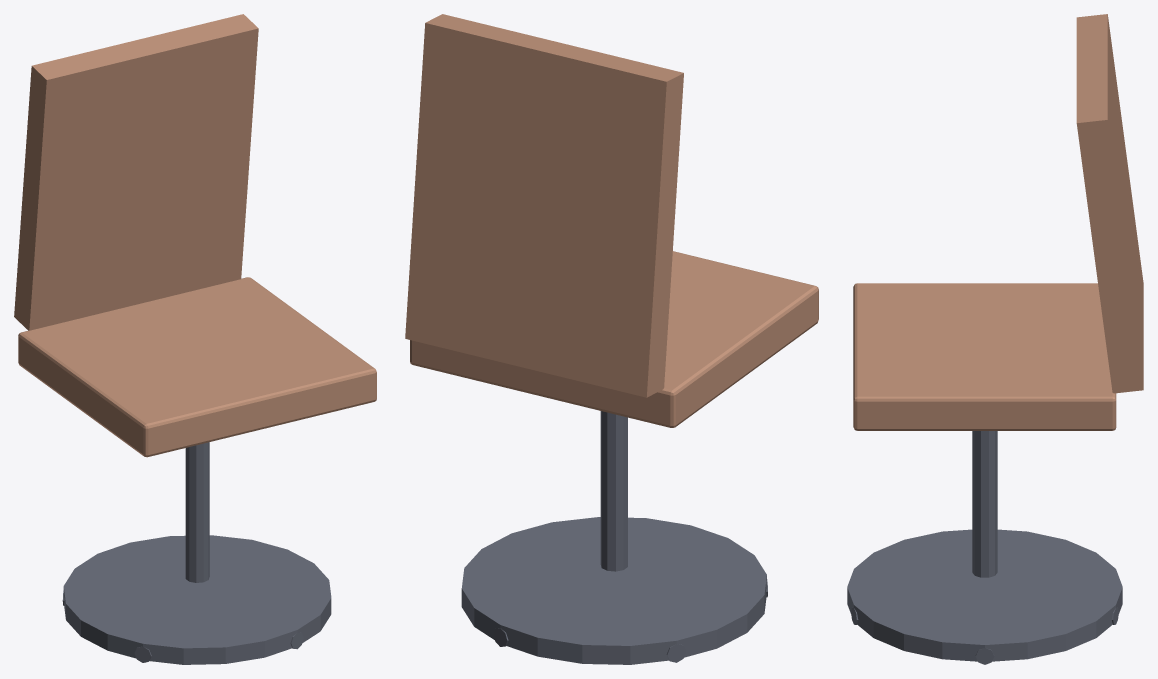
The model's file is office_cadeira_escrit_sala.glb.
The picture shows the model from 3 angles, left to right: view 1: azimuth 30°, elevation 25°; view 2: azimuth 150°, elevation 25°; view 3: azimuth 270°, elevation 25°; orthographic projection. The views are drawn at different scales.
Visible parts, largest first — view 1: OFFICE_CadeiraEscritSala_Encosto, OFFICE_CadeiraEscritSala_Assento, OFFICE_CadeiraEscritSala_Base, OFFICE_CadeiraEscritSala_Pistao; view 2: OFFICE_CadeiraEscritSala_Encosto, OFFICE_CadeiraEscritSala_Base, OFFICE_CadeiraEscritSala_Assento, OFFICE_CadeiraEscritSala_Pistao; view 3: OFFICE_CadeiraEscritSala_Assento, OFFICE_CadeiraEscritSala_Base, OFFICE_CadeiraEscritSala_Encosto, OFFICE_CadeiraEscritSala_Pistao.
Part boxes in pixels (bbox=[...]): OFFICE_CadeiraEscritSala_Encosto: bbox=[14, 14, 258, 330]; OFFICE_CadeiraEscritSala_Assento: bbox=[18, 277, 376, 457]; OFFICE_CadeiraEscritSala_Base: bbox=[63, 535, 331, 664]; OFFICE_CadeiraEscritSala_Pistao: bbox=[185, 442, 209, 582]; OFFICE_CadeiraEscritSala_Encosto: bbox=[405, 14, 683, 397]; OFFICE_CadeiraEscritSala_Base: bbox=[461, 517, 766, 664]; OFFICE_CadeiraEscritSala_Assento: bbox=[410, 251, 818, 427]; OFFICE_CadeiraEscritSala_Pistao: bbox=[600, 411, 627, 571]; OFFICE_CadeiraEscritSala_Assento: bbox=[853, 283, 1116, 430]; OFFICE_CadeiraEscritSala_Base: bbox=[847, 529, 1122, 661]; OFFICE_CadeiraEscritSala_Encosto: bbox=[1076, 14, 1143, 393]; OFFICE_CadeiraEscritSala_Pistao: bbox=[972, 431, 997, 577].
Size of the model in its own units: 0.44 by 0.9513 by 0.4736.
